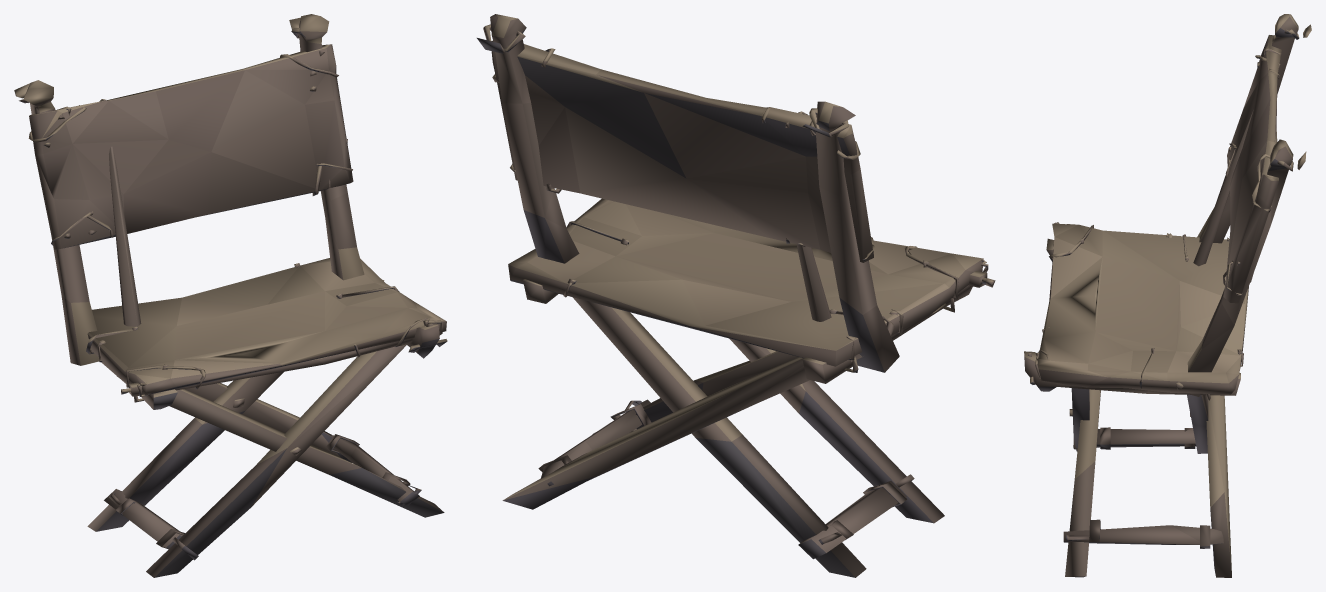
Rendered from throne.glb.
3 renders of one model, left to right at view 1: azimuth 30°, elevation 25°; view 2: azimuth 150°, elevation 25°; view 3: azimuth 270°, elevation 25°, orthographic. The views are drawn at different scales.
Visible parts, largest first — view 1: Smart_throne; view 2: Smart_throne; view 3: Smart_throne.
Part boxes in pixels (left/top/right/bottom): Smart_throne: left=14, top=14, right=447, bottom=577; Smart_throne: left=477, top=14, right=995, bottom=577; Smart_throne: left=1024, top=14, right=1311, bottom=577.
Size of the model in its own units: 1.35 by 1.7 by 1.05.
